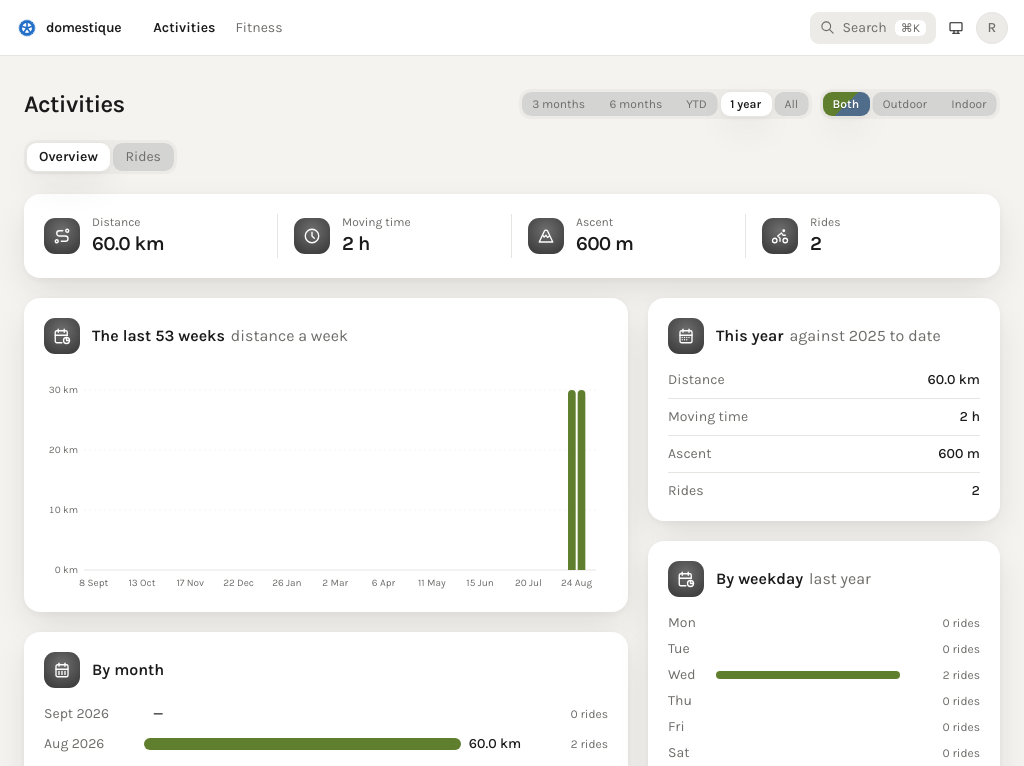
it: the activities page › says so when no ride was ridden on the ground picked
The width and height of the screenshot is (1024, 766).
Click the button "Indoor".
click(969, 104)  # box [941,92,997,116]
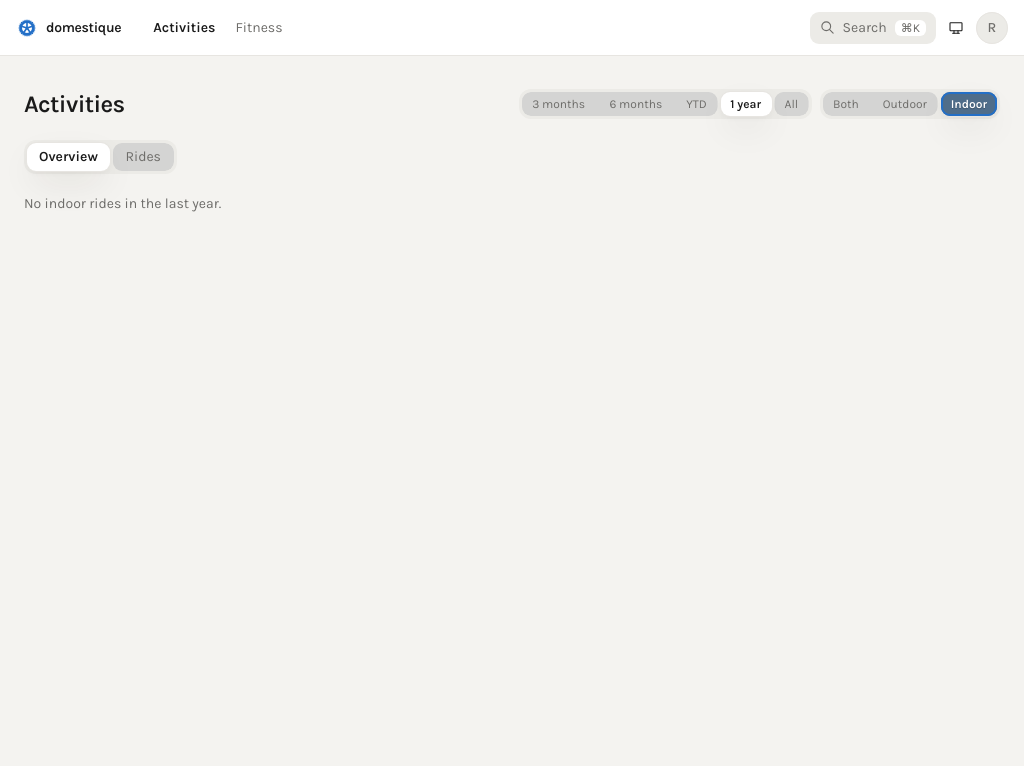
Expected: the text "No indoor rides in the last year." is shown, [24,195,221,212]
